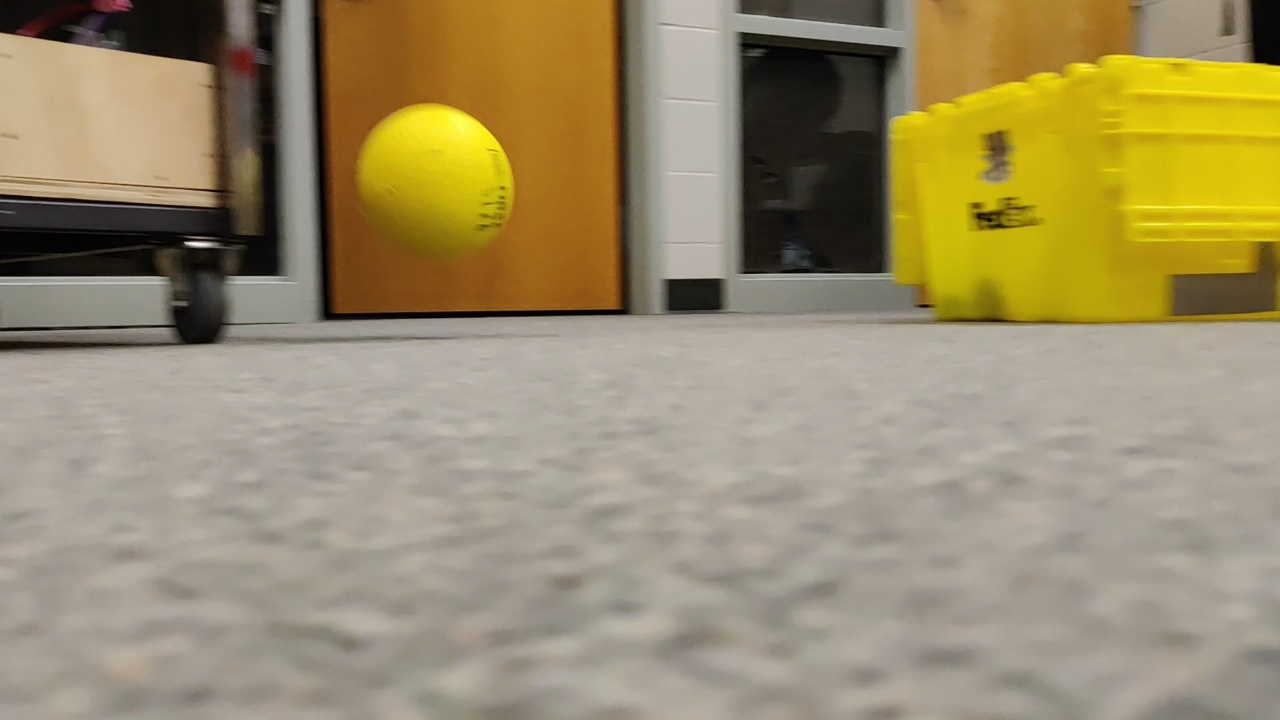Ball: (349, 91, 525, 252)
